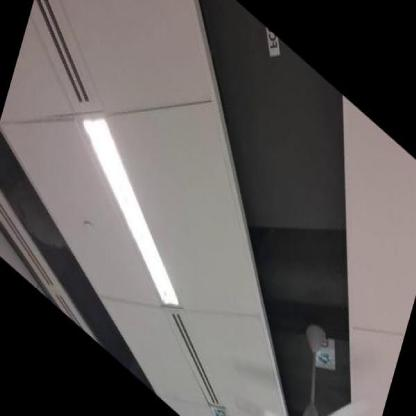light_on: (50, 84, 217, 332)
